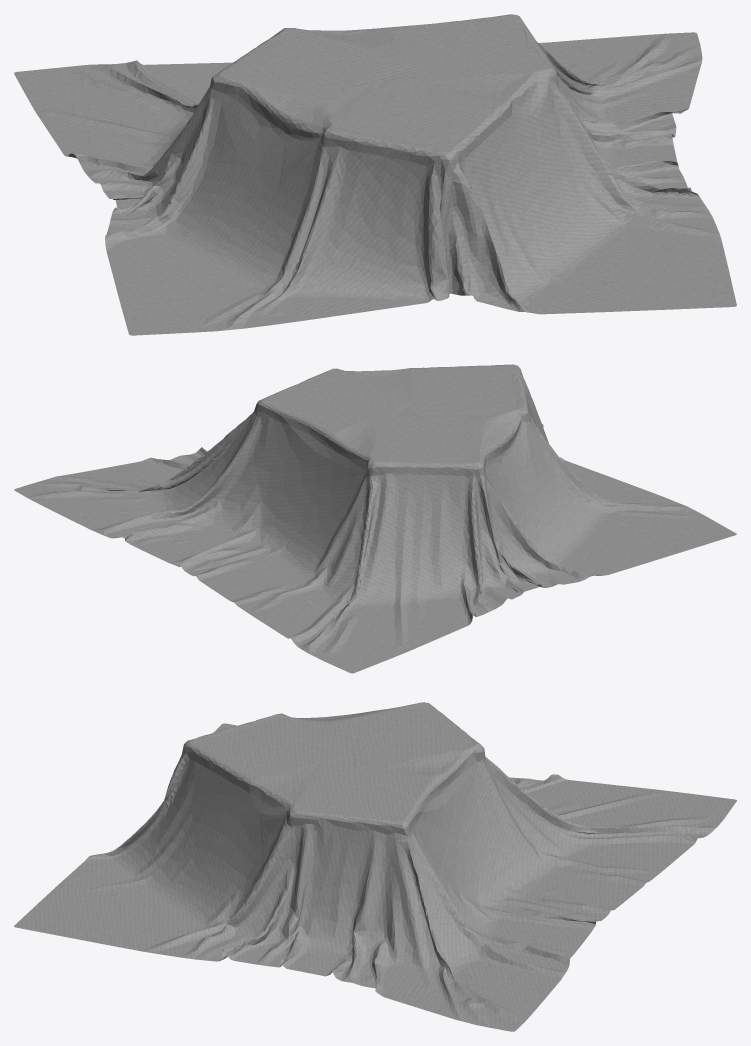
Rendered from Cover4.fbx.
3 views of the same model, one above another, from view 1: azimuth 30°, elevation 25°; view 2: azimuth 150°, elevation 25°; view 3: azimuth 270°, elevation 25° (orthographic). The views are drawn at different scales.
Visible parts, largest first — view 1: Plane.024; view 2: Plane.024; view 3: Plane.024.
Part boxes in pixels (x1,y1,x2,y2): Plane.024: (14, 14, 736, 335); Plane.024: (14, 364, 736, 673); Plane.024: (14, 702, 736, 1031).
Size of the model in its own units: 624 by 101 by 618.
1 material, 1 textured.
